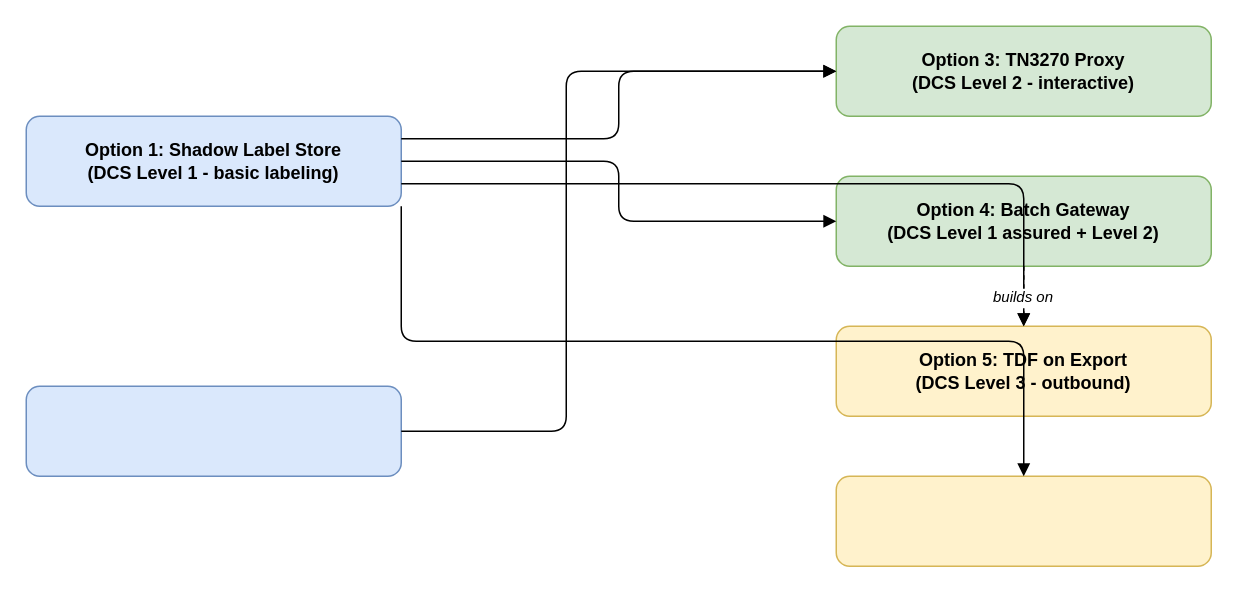
The diagram is 1238 pixels wide and 593 high, and some of its shapes have lost their labels. Each missing label, with the centre of its shape:
"Option 2: User Attribute Store (DCS Level 2 prerequisite)" belongs at pixel 213 430.
"Option 6: Encrypted Mirror (DCS Level 3 - at rest)" belongs at pixel 1023 520.
